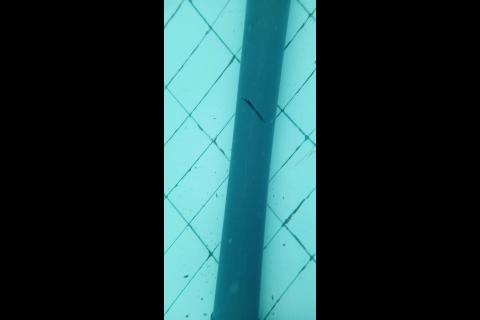keretakan: (241, 95, 266, 124)
